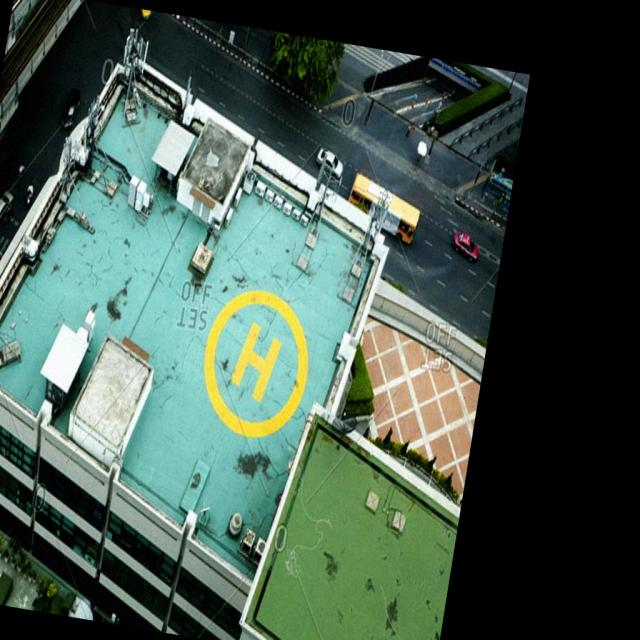helipad: (200, 282, 314, 440)
